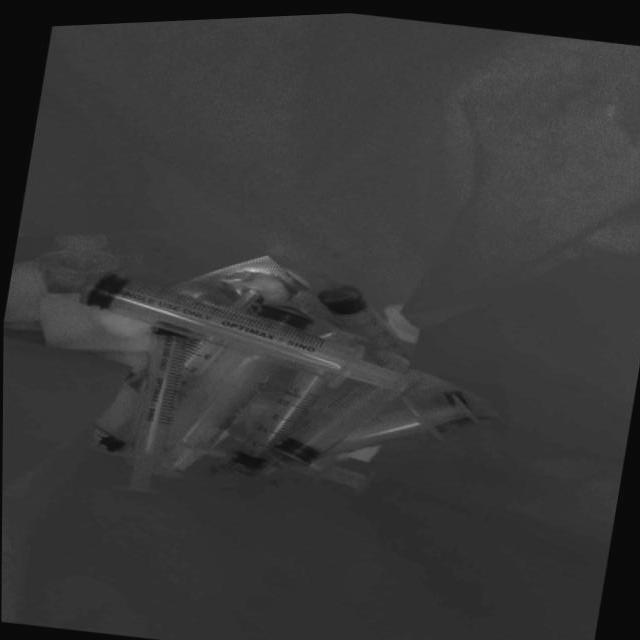General: (85, 253, 498, 497)
